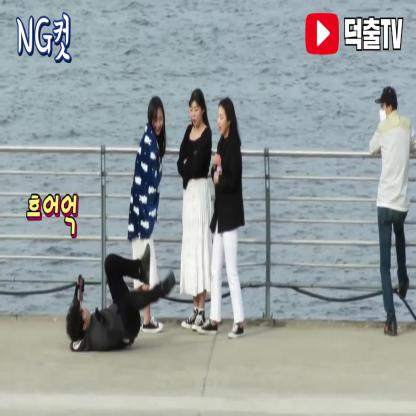Fall_Down: (65, 242, 176, 354)
